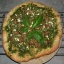pizza: (1, 4, 61, 59)
